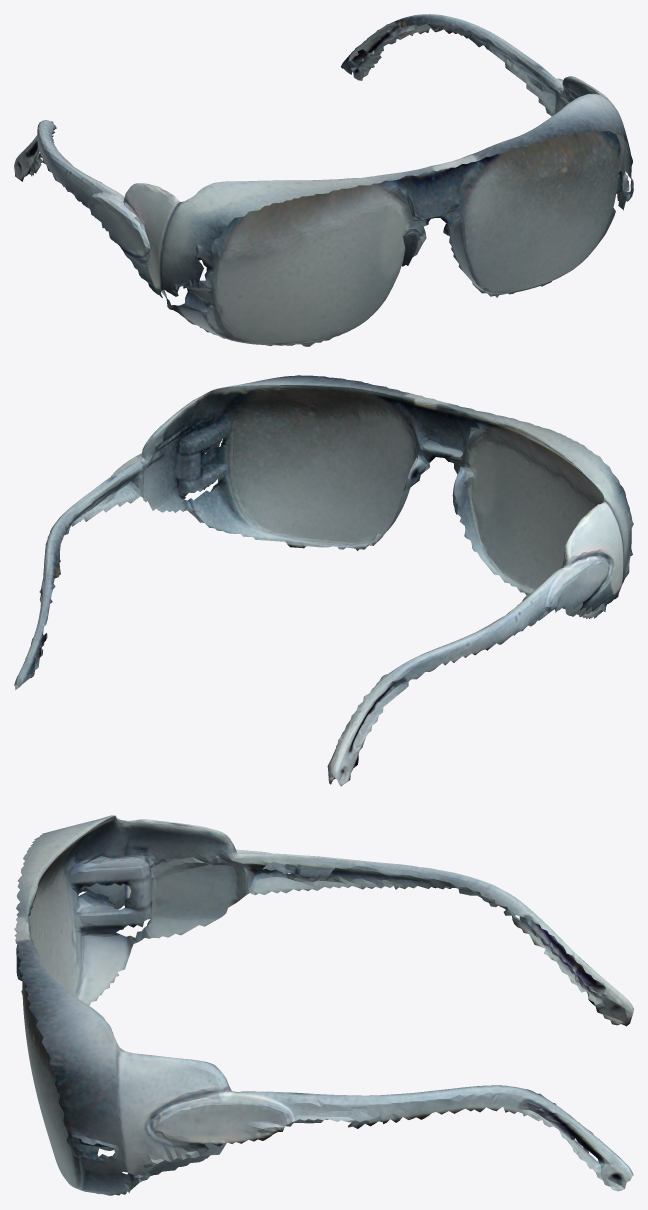
File: scan_align.obj
The picture shows the model from 3 angles, top to bottom: view 1: azimuth 30°, elevation 25°; view 2: azimuth 150°, elevation 25°; view 3: azimuth 270°, elevation 25°; orthographic projection. The views are drawn at different scales.
Bounding box in the file's own units: 0.1515 × 0.0521 × 0.1521.
Materials: 1 (1 with a texture image).
